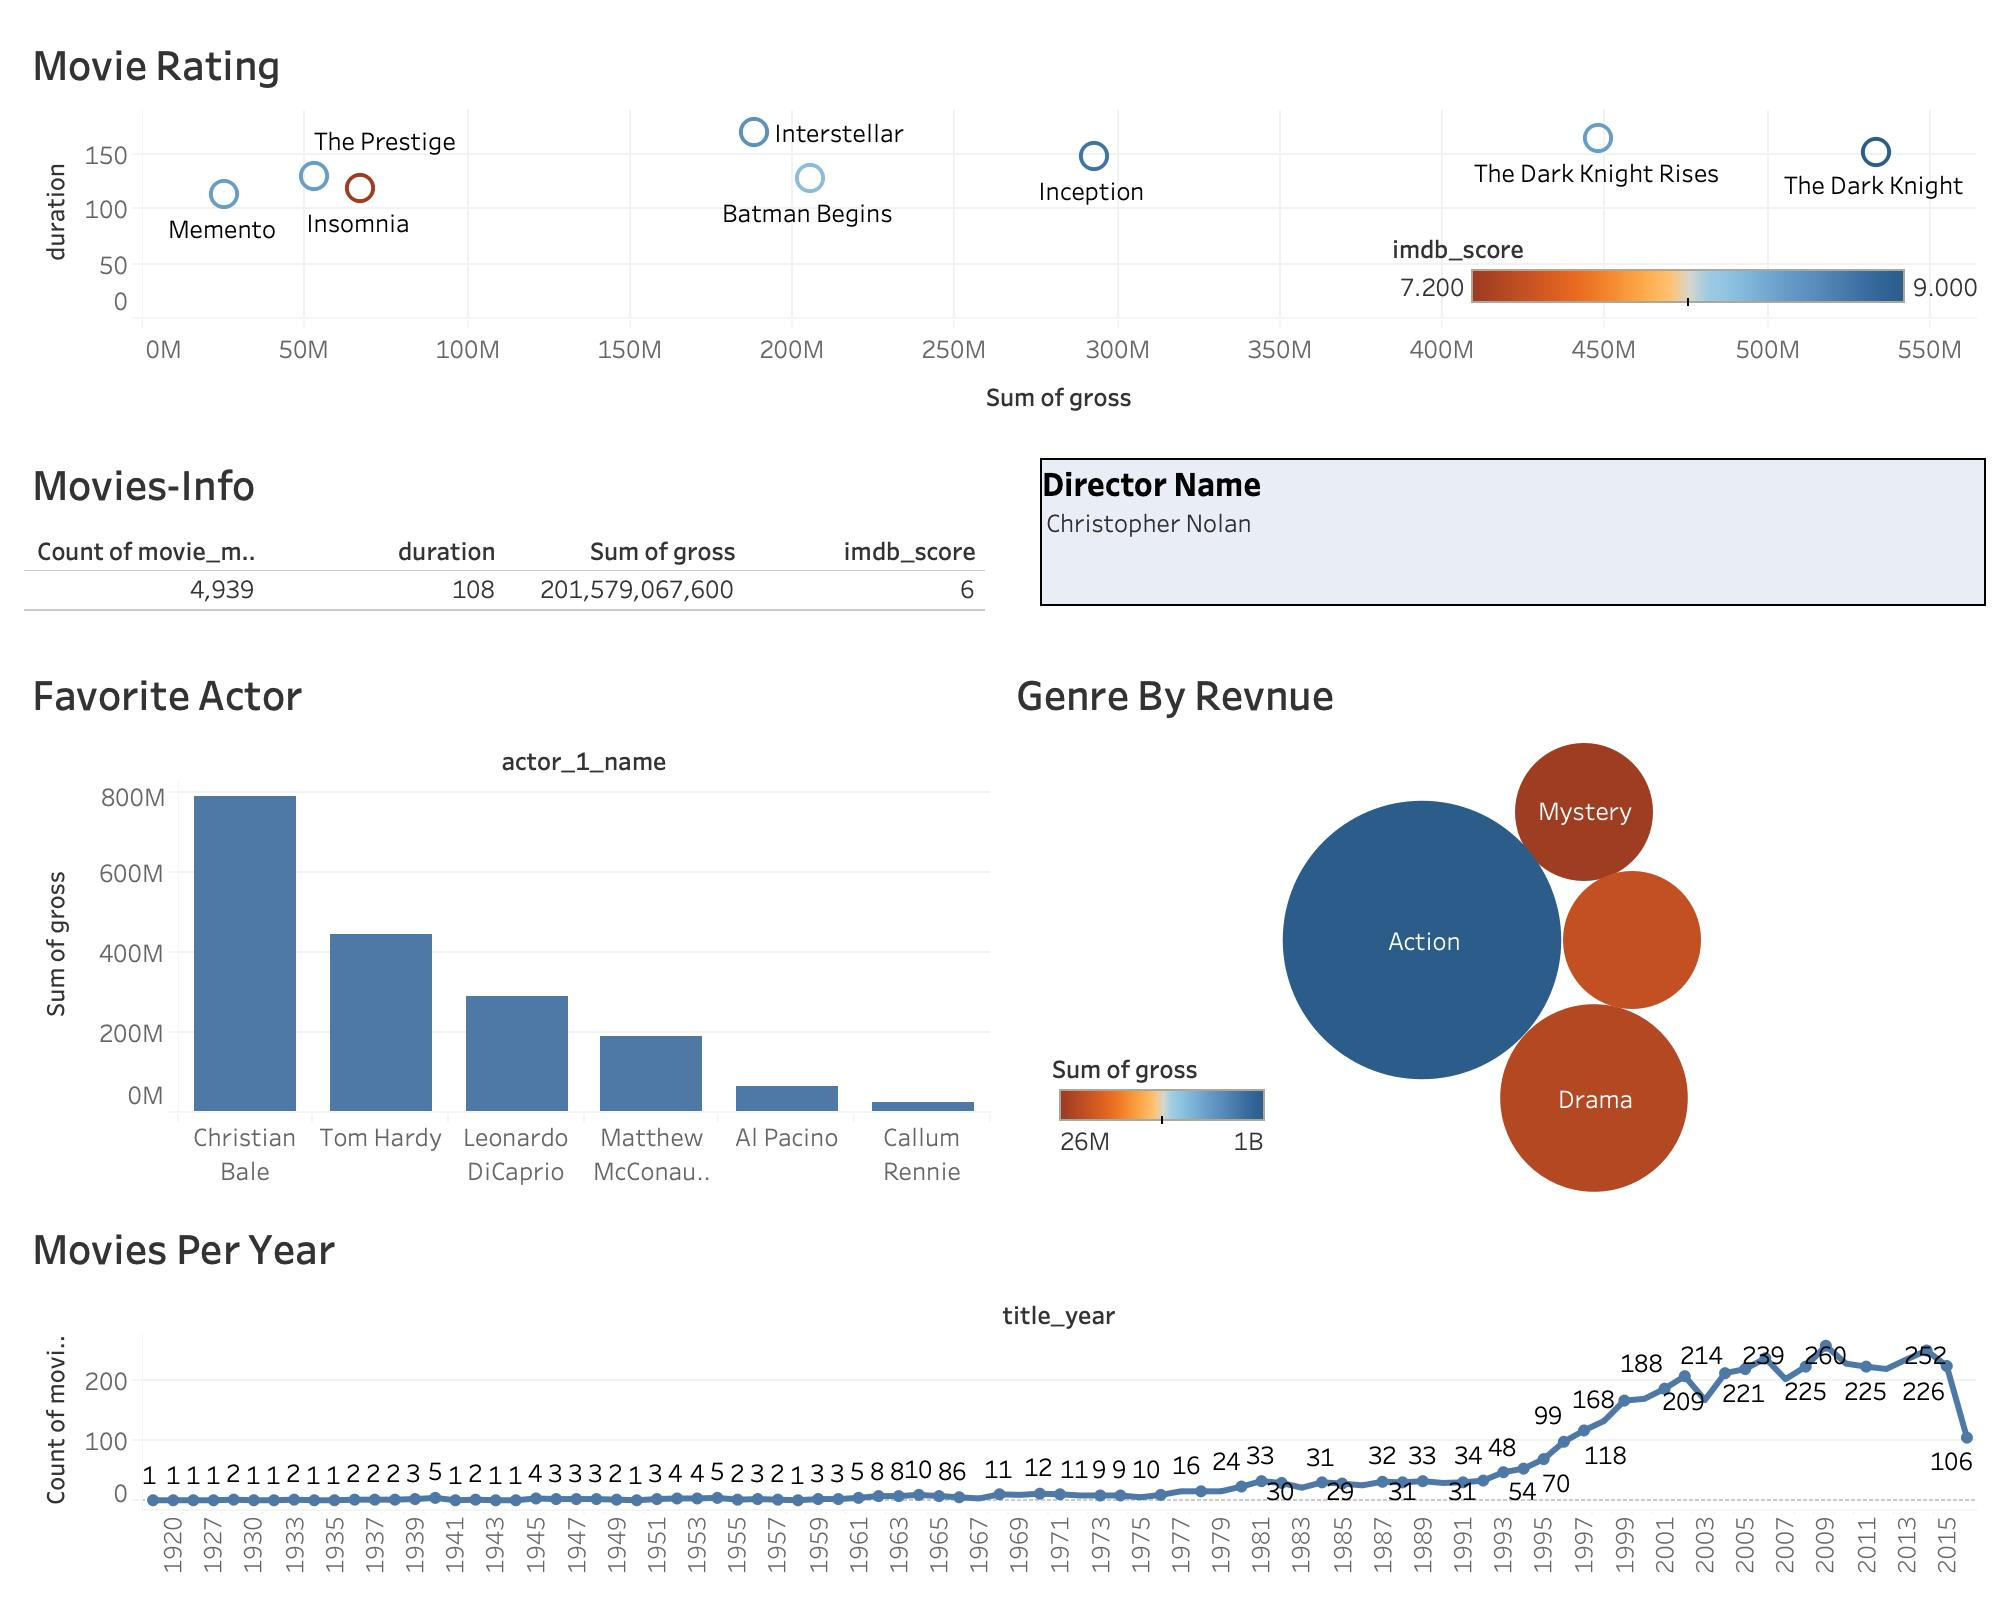

Layout of this report page (visuals, bound fields, positions):
{"tool":"tableau","page":{"name":"Dashboard 1","canvas":[1000,800],"ordinal":0},"visuals":[{"type":"worksheet","box":[0,0,1000,800]},{"type":"worksheet","param":"horz","box":[8,8,984,784]},{"type":"worksheet","box":[8,8,984,784]},{"type":"worksheet","title":"Movie Rating","mark":"Automatic","rows":["duration"],"cols":["gross"],"box":[8,8,984,210]},{"type":"worksheet","title":"Movie Rating","mark":"Automatic","rows":["duration"],"cols":["gross"],"param":"[federated.1a96u8h0me4s9t17tp5jr1qcm5l7].[avg:imdb_score:qk]","box":[696,112,298,41]},{"type":"worksheet","title":"Movies-Info","mark":"Automatic","box":[8,218,984,105]},{"type":"worksheet","title":"Movie Rating","mark":"Automatic","rows":["duration"],"cols":["gross"],"param":"[federated.1a96u8h0me4s9t17tp5jr1qcm5l7].[none:director_name:nk]","box":[520,229,473,74]},{"type":"worksheet","title":"Nolan Actor","mark":"Automatic","rows":["gross"],"cols":["actor_1_name"],"box":[8,323,492,277]},{"type":"worksheet","title":"Nolan Genres","mark":"Circle","box":[500,323,492,277]},{"type":"worksheet","title":"Nolan Genres","mark":"Circle","param":"[federated.1a96u8h0me4s9t17tp5jr1qcm5l7].[sum:gross:qk]","box":[526,522,111,57]},{"type":"worksheet","title":"Movies Per Year","mark":"Automatic","rows":["movie_title"],"cols":["title_year"],"box":[8,600,984,192]}]}

Visuals, with their boxes in screenshot pixels (x1, y1, x2, y2), scaled from the page's 1000x800 canvas onto the 2000x1600 screenshot:
worksheet: box=[0, 0, 1999, 1599]
worksheet: box=[16, 16, 1984, 1584]
worksheet: box=[16, 16, 1984, 1584]
"Movie Rating" worksheet: box=[16, 16, 1984, 436]
"Movie Rating" worksheet: box=[1392, 224, 1988, 306]
"Movies-Info" worksheet: box=[16, 436, 1984, 646]
"Movie Rating" worksheet: box=[1040, 458, 1986, 606]
"Nolan Actor" worksheet: box=[16, 646, 1000, 1200]
"Nolan Genres" worksheet (Circle marks): box=[1000, 646, 1984, 1200]
"Nolan Genres" worksheet (Circle marks): box=[1052, 1044, 1274, 1158]
"Movies Per Year" worksheet: box=[16, 1200, 1984, 1584]
